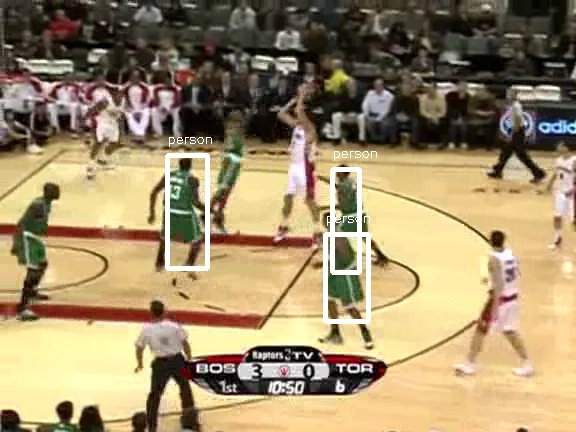person: (337, 170, 371, 251), (336, 170, 370, 251), (338, 170, 372, 251), (337, 169, 371, 250), (337, 171, 371, 252)
target_negative: (102, 219, 395, 337), (138, 272, 195, 352), (241, 244, 281, 335), (169, 355, 268, 391), (444, 405, 481, 409), (564, 311, 567, 354)
